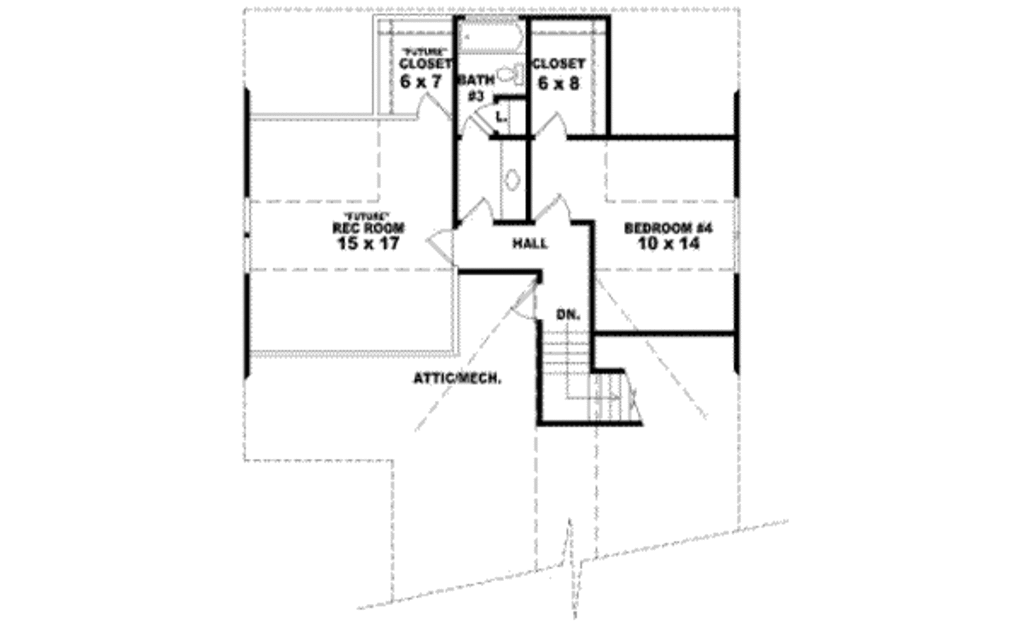door: (415, 218, 460, 263), (505, 282, 546, 321), (532, 190, 575, 223), (415, 90, 451, 126), (458, 194, 499, 223), (450, 111, 492, 137), (530, 114, 568, 140)
large_sink: (491, 63, 525, 93)
small_sink: (496, 150, 529, 221)
stairs: (535, 301, 648, 425)
tub: (452, 17, 529, 53)
window: (724, 193, 742, 269), (240, 193, 254, 270)
